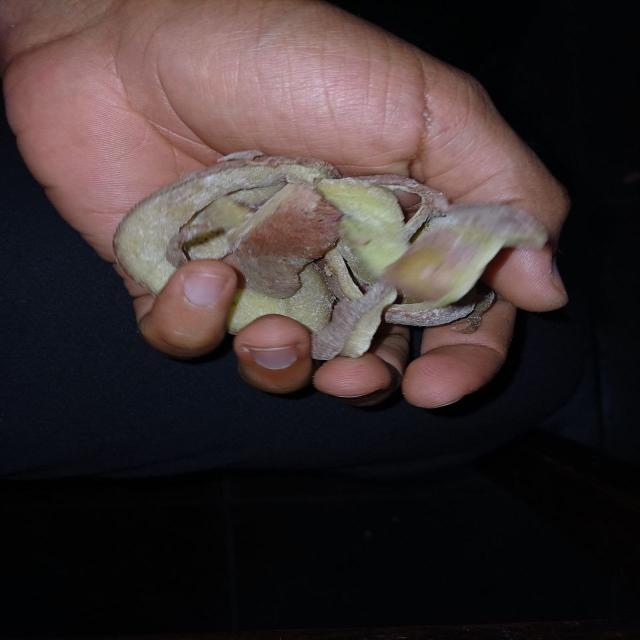organic: (117, 152, 550, 356)
